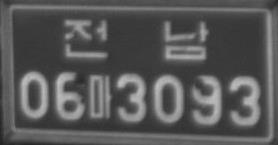0: (153, 74, 185, 124), (19, 69, 49, 119)
3: (228, 74, 262, 128), (115, 71, 147, 124)
6: (54, 71, 86, 121)
9: (190, 73, 223, 126)
마: (87, 72, 113, 120)
전남_D: (63, 17, 209, 61)
